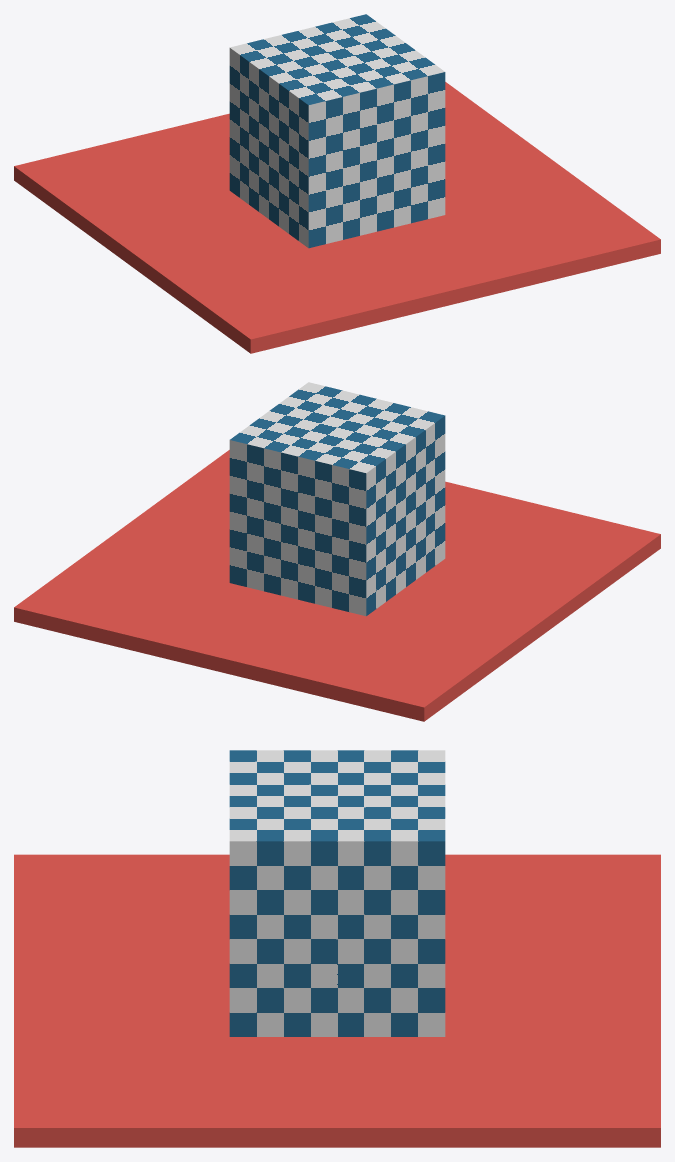
File: sample.glb
3 renders of one model, top to bottom at view 1: azimuth 30°, elevation 25°; view 2: azimuth 150°, elevation 25°; view 3: azimuth 270°, elevation 25°, orthographic. The views are drawn at different scales.
Parts seen in each view (by area): view 1: Base, Cube; view 2: Base, Cube; view 3: Base, Cube.
Part boxes in pixels (x1,y1,x2,y2): Base: [14, 82, 660, 353]; Cube: [229, 14, 445, 248]; Base: [14, 450, 660, 721]; Cube: [229, 382, 445, 616]; Base: [14, 854, 660, 1147]; Cube: [229, 750, 445, 1036].
Size of the model in its own units: 6 by 2.2 by 6.
Materials: 2 (1 with a texture image).
